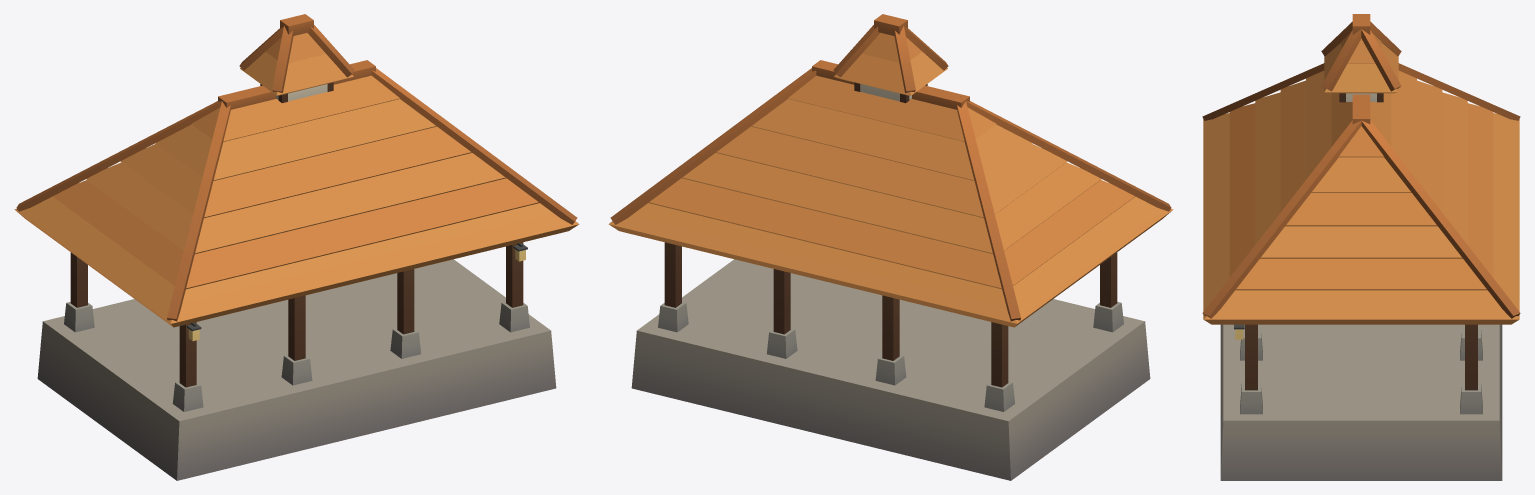
Rendered from lm_market_hall.glb.
The picture shows the model from 3 angles, left to right: view 1: azimuth 30°, elevation 25°; view 2: azimuth 150°, elevation 25°; view 3: azimuth 270°, elevation 25°; orthographic projection.
Parts seen in each view (by area): view 1: lm_market_hall; view 2: lm_market_hall; view 3: lm_market_hall.
Part boxes in pixels (x1,y1,x2,y2): lm_market_hall: (14,14,579,480); lm_market_hall: (608,14,1173,480); lm_market_hall: (1202,14,1520,480).
Bounding box in the file's own units: 35.73 × 30.21 × 23.73.
Materials: 1 (1 with a texture image).
